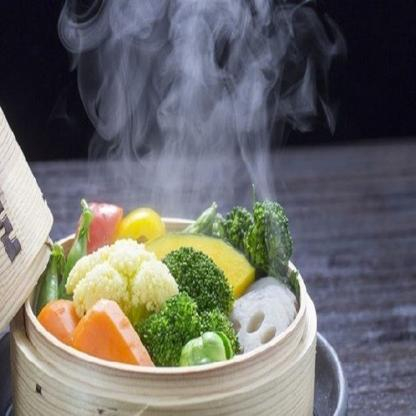smoke: (59, 2, 349, 213)
